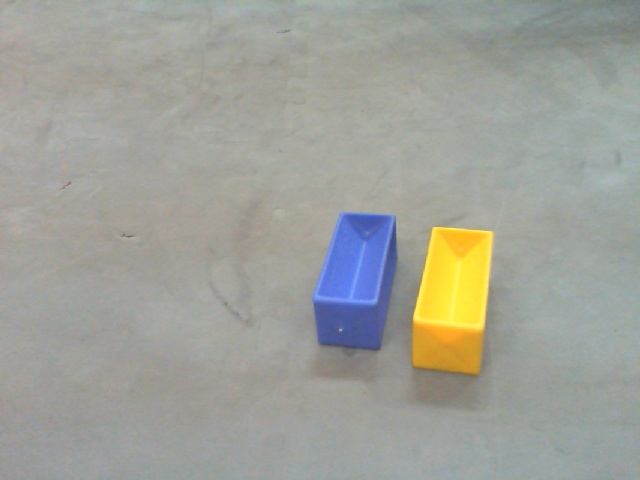BlueSample: (312, 210, 400, 358)
YellowSample: (410, 222, 499, 388)
